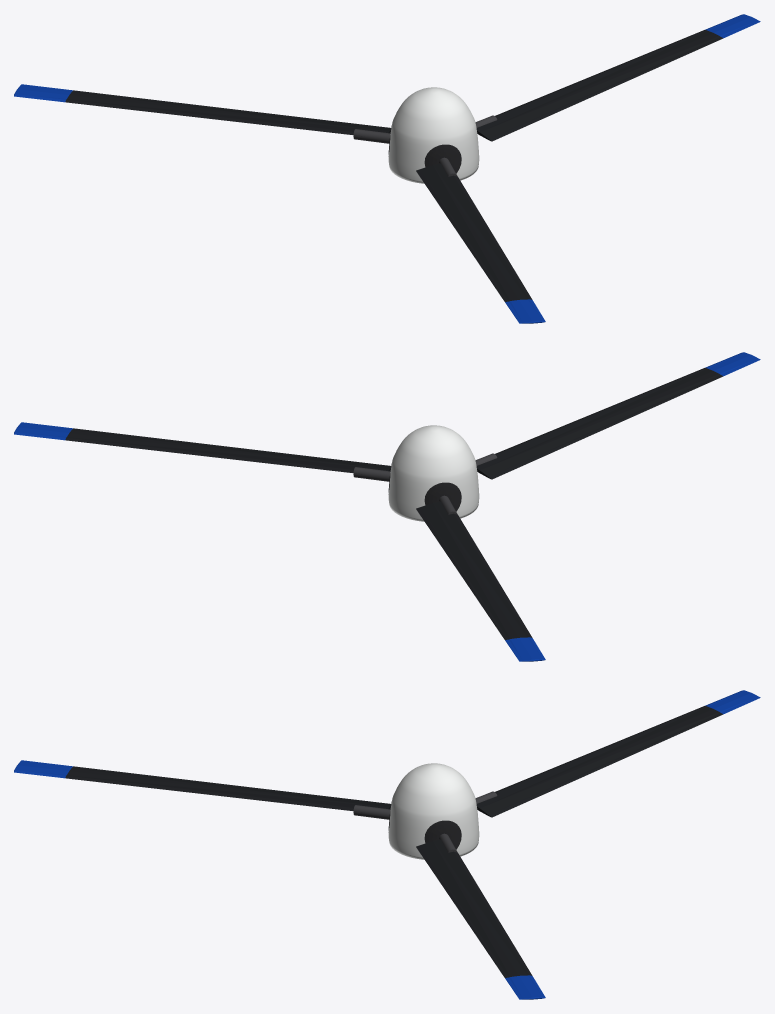
File: rotor_1.glb
3 renders of one model, top to bottom at view 1: azimuth 30°, elevation 25°; view 2: azimuth 150°, elevation 25°; view 3: azimuth 270°, elevation 25°, orthographic.
Visible parts, largest first — view 1: rotor_1; view 2: rotor_1; view 3: rotor_1.
Part boxes in pixels (x1,y1,x2,y2): rotor_1: [14, 14, 760, 323]; rotor_1: [14, 352, 760, 661]; rotor_1: [14, 690, 760, 999].
Bounding box in the file's own units: 4.69 × 0.5303 × 4.77.
